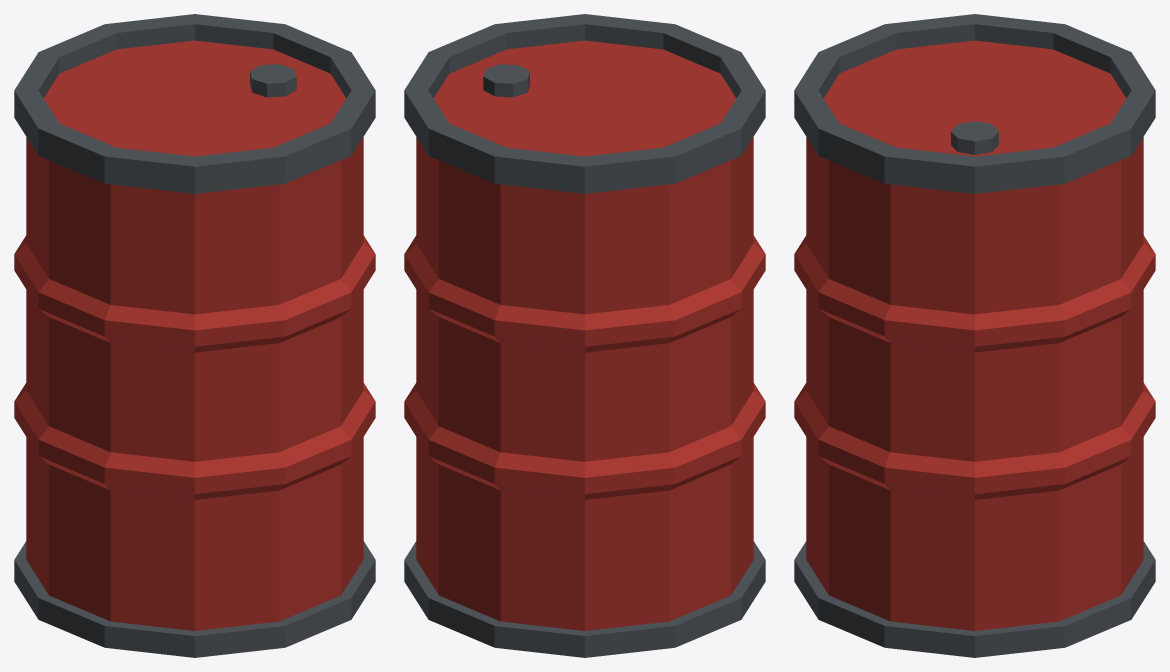
Rendered from baril.glb.
3 views of the same model, side by side, from view 1: azimuth 30°, elevation 25°; view 2: azimuth 150°, elevation 25°; view 3: azimuth 270°, elevation 25° (orthographic).
Parts seen in each view (by area): view 1: drum, rim_top, rim_bottom, bung; view 2: drum, rim_top, rim_bottom, bung; view 3: drum, rim_top, rim_bottom, bung.
Boxes of the visible parts, bbox=[...] form: drum: bbox=[14, 40, 375, 630]; rim_top: bbox=[14, 14, 375, 193]; rim_bottom: bbox=[14, 541, 375, 657]; bung: bbox=[250, 64, 296, 97]; drum: bbox=[404, 40, 765, 630]; rim_top: bbox=[404, 14, 765, 193]; rim_bottom: bbox=[404, 541, 765, 657]; bung: bbox=[483, 64, 529, 97]; drum: bbox=[794, 40, 1155, 630]; rim_top: bbox=[794, 14, 1155, 193]; rim_bottom: bbox=[794, 541, 1155, 657]; bung: bbox=[951, 121, 998, 154].
Bounding box in the file's own units: 0.6 × 0.9 × 0.6.
2 materials, 2 textured.
